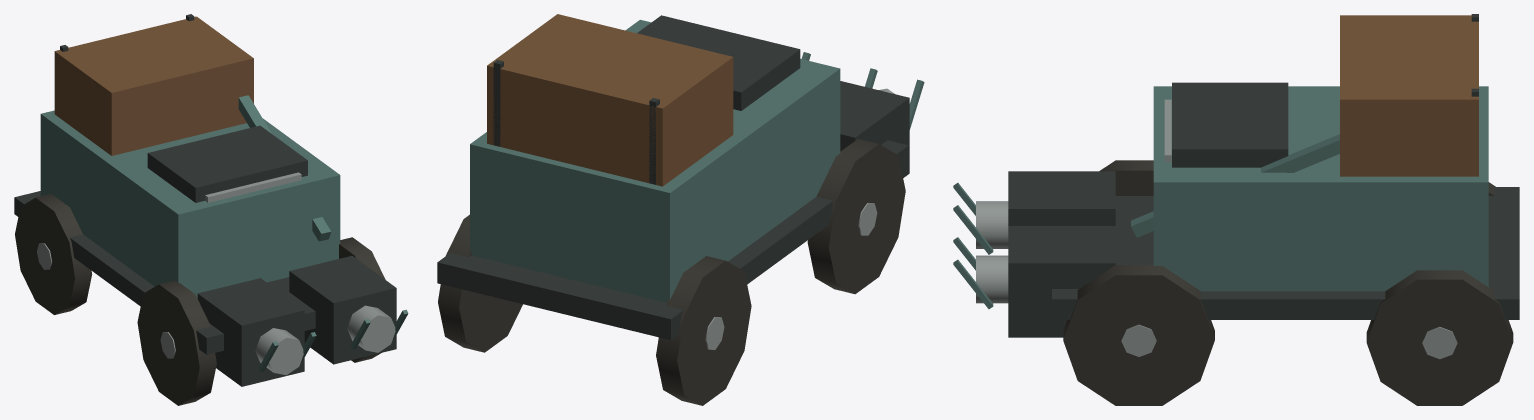
File: Cotton-Picker.glb
3 renders of one model, left to right at view 1: azimuth 30°, elevation 25°; view 2: azimuth 150°, elevation 25°; view 3: azimuth 270°, elevation 25°, orthographic. The views are drawn at different scales.
Visible parts, largest first — view 1: cotton-picker-static-cotton-picker-paint-mat, cotton-picker-static-cotton-picker-iron-mat, cotton-picker-static-cotton-picker-timber-mat, cotton-picker-static-cotton-picker-wheel-mat, cotton-picker-static-cotton-picker-steel-mat; view 2: cotton-picker-static-cotton-picker-paint-mat, cotton-picker-static-cotton-picker-timber-mat, cotton-picker-static-cotton-picker-wheel-mat, cotton-picker-static-cotton-picker-iron-mat, cotton-picker-static-cotton-picker-steel-mat; view 3: cotton-picker-static-cotton-picker-paint-mat, cotton-picker-static-cotton-picker-iron-mat, cotton-picker-static-cotton-picker-wheel-mat, cotton-picker-static-cotton-picker-timber-mat, cotton-picker-static-cotton-picker-steel-mat.
Boxes of the visible parts, x1,y1,x2,y2 form: cotton-picker-static-cotton-picker-paint-mat: [40, 95, 408, 371]; cotton-picker-static-cotton-picker-iron-mat: [14, 14, 396, 386]; cotton-picker-static-cotton-picker-timber-mat: [54, 16, 253, 155]; cotton-picker-static-cotton-picker-wheel-mat: [15, 194, 385, 405]; cotton-picker-static-cotton-picker-steel-mat: [37, 172, 395, 375]; cotton-picker-static-cotton-picker-paint-mat: [470, 19, 924, 302]; cotton-picker-static-cotton-picker-timber-mat: [487, 14, 733, 186]; cotton-picker-static-cotton-picker-wheel-mat: [438, 139, 905, 405]; cotton-picker-static-cotton-picker-iron-mat: [437, 15, 909, 340]; cotton-picker-static-cotton-picker-steel-mat: [705, 88, 895, 349]; cotton-picker-static-cotton-picker-paint-mat: [953, 86, 1488, 309]; cotton-picker-static-cotton-picker-iron-mat: [1008, 14, 1519, 337]; cotton-picker-static-cotton-picker-wheel-mat: [1063, 160, 1513, 405]; cotton-picker-static-cotton-picker-timber-mat: [1340, 15, 1478, 176]; cotton-picker-static-cotton-picker-steel-mat: [976, 99, 1457, 359].
Size of the model in its own units: 2.17 by 2.58 by 4.48.
